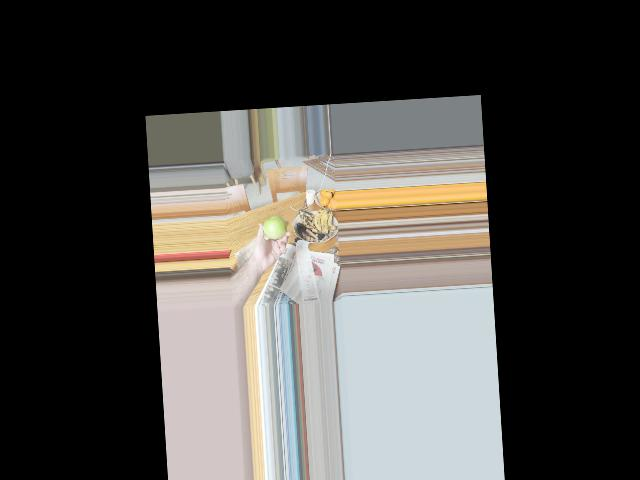apple: (262, 216, 288, 241)
